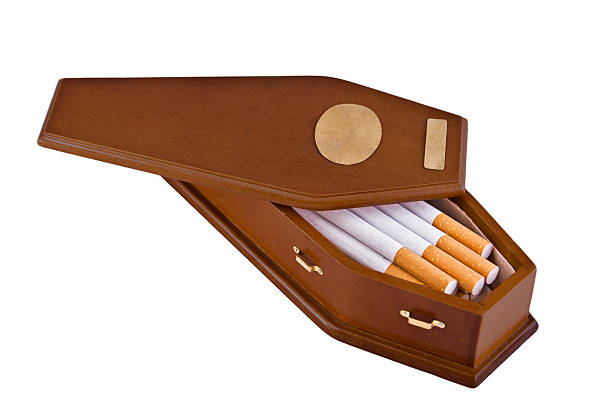cigarette: (346, 204, 486, 297), (314, 208, 458, 295), (291, 205, 432, 289), (374, 203, 501, 285), (399, 200, 495, 259)
